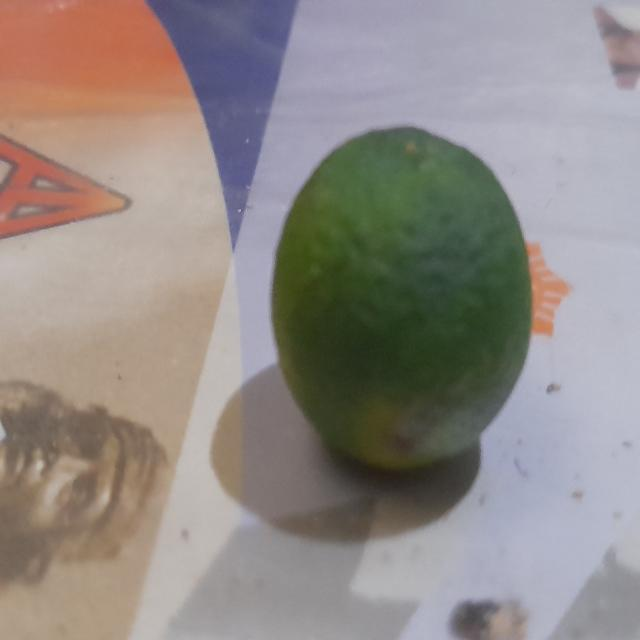heathy: (270, 118, 533, 470)
